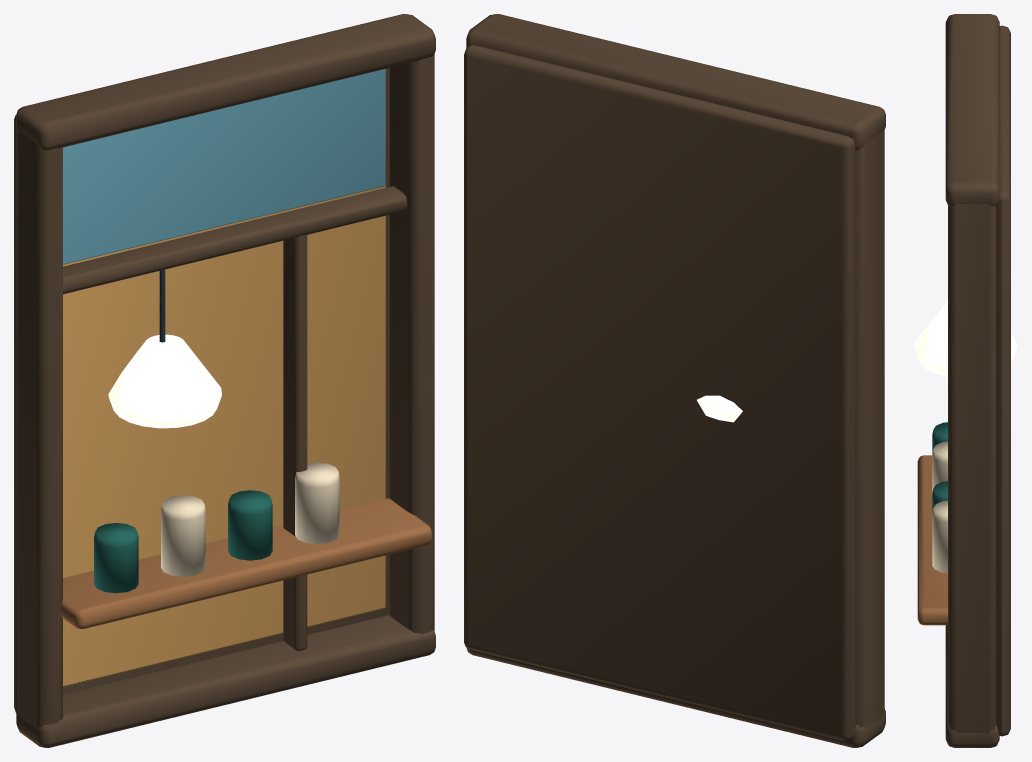
The model's file is WindowShop2m.fbx.
3 views of the same model, side by side, from view 1: azimuth 30°, elevation 25°; view 2: azimuth 150°, elevation 25°; view 3: azimuth 270°, elevation 25° (orthographic). The views are drawn at different scales.
Visible parts, largest first — view 1: WindowShop2m_DarkWood, WindowShop2m_WarmGlass, WindowShop2m_Glass, WindowShop2m_Wood, WindowShop2m_Glow, WindowShop2m_Trim, WindowShop2m_Fabric; view 2: WindowShop2m_DarkWood, WindowShop2m_Glow; view 3: WindowShop2m_DarkWood, WindowShop2m_Wood, WindowShop2m_Glow, WindowShop2m_Trim, WindowShop2m_Fabric.
Part boxes in pixels (x1,y1,x2,y2): WindowShop2m_DarkWood: (14,14,435,747); WindowShop2m_WarmGlass: (63,186,385,686); WindowShop2m_Glass: (63,69,385,264); WindowShop2m_Wood: (60,498,431,629); WindowShop2m_Glow: (108,334,221,428); WindowShop2m_Trim: (161,462,339,576); WindowShop2m_Fabric: (94,490,272,593); WindowShop2m_DarkWood: (464,14,885,747); WindowShop2m_Glow: (697,395,742,422); WindowShop2m_DarkWood: (945,14,1010,747); WindowShop2m_Wood: (917,455,947,625); WindowShop2m_Glow: (914,300,1017,376); WindowShop2m_Trim: (932,441,947,573); WindowShop2m_Fabric: (932,422,947,512).
Size of the model in its own units: 1.84 by 2.77 by 0.46.
